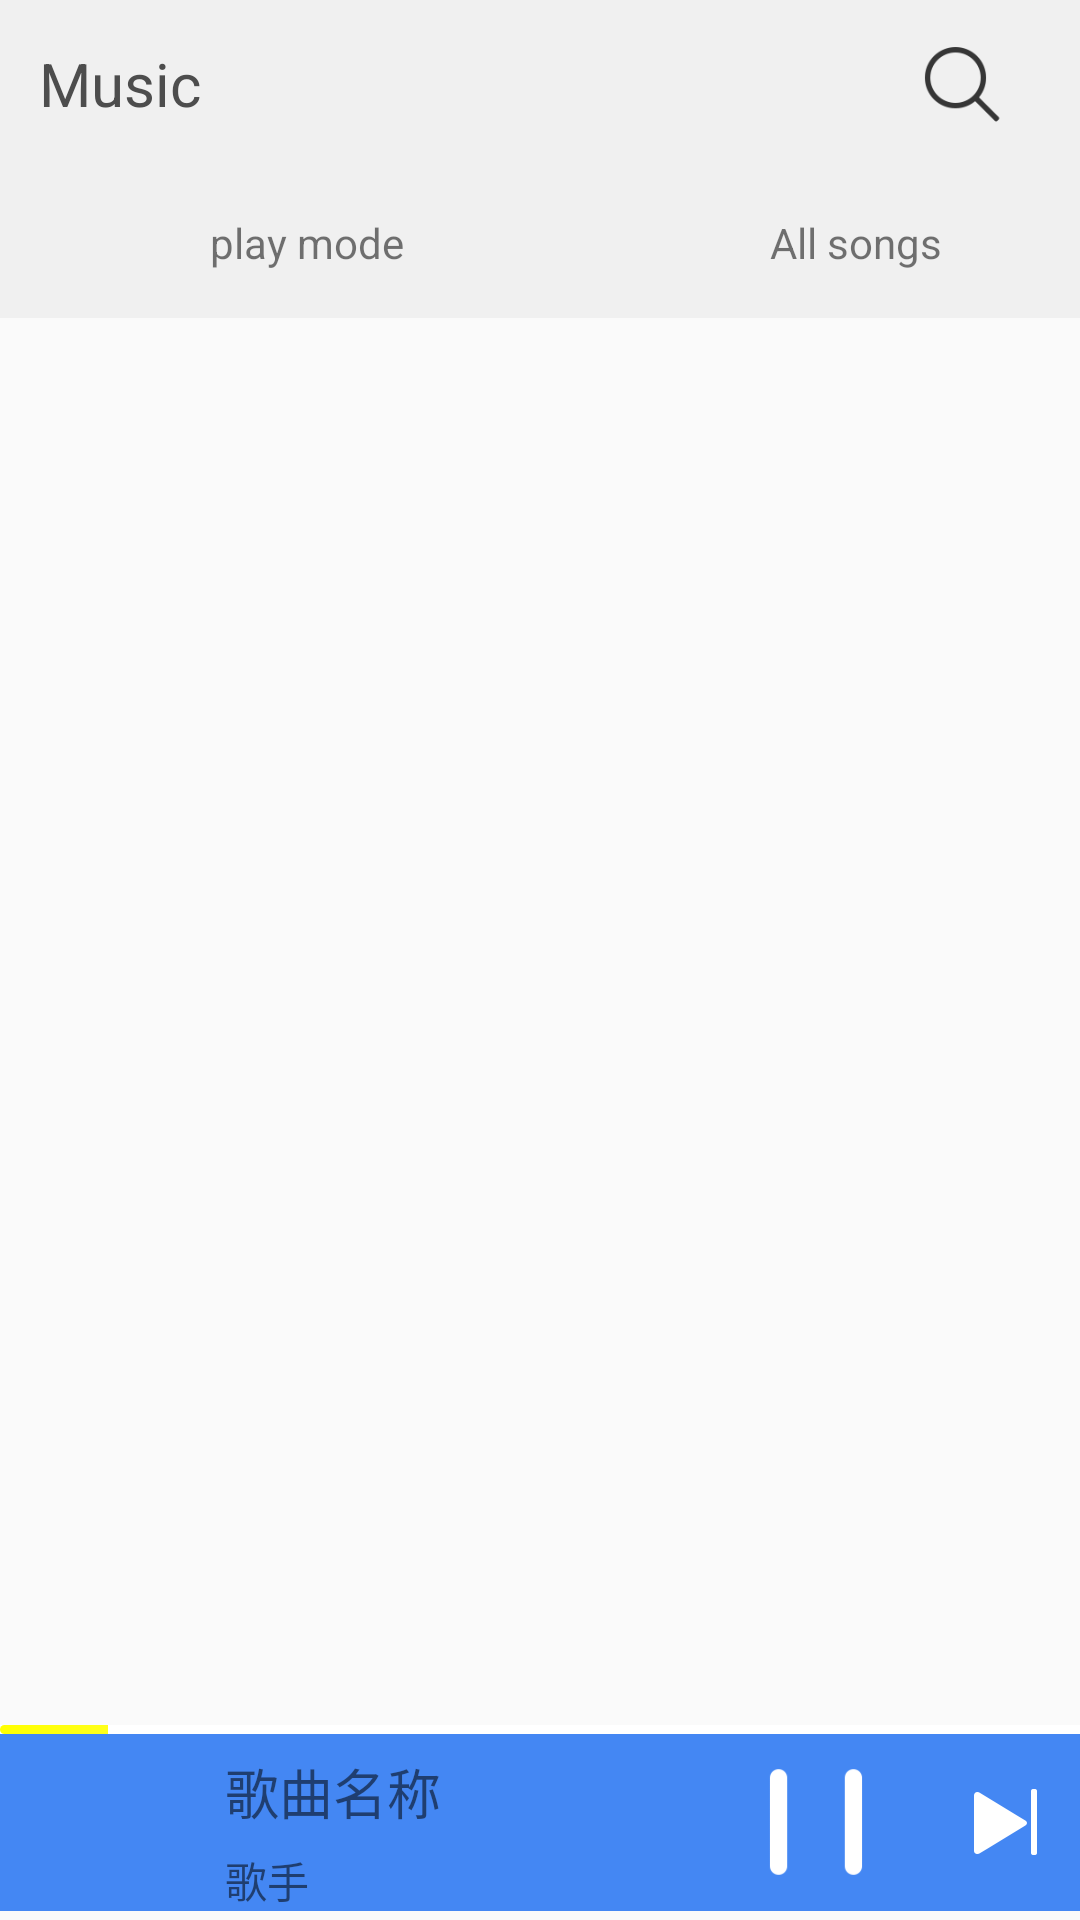

Named icons in this screenshot (1080 × 1920) and their bounding boxes, box(x1, y1, x2, y2):
next: box(974, 1789, 1037, 1855)
pause: box(770, 1769, 862, 1875)
search: box(925, 47, 1000, 122)
